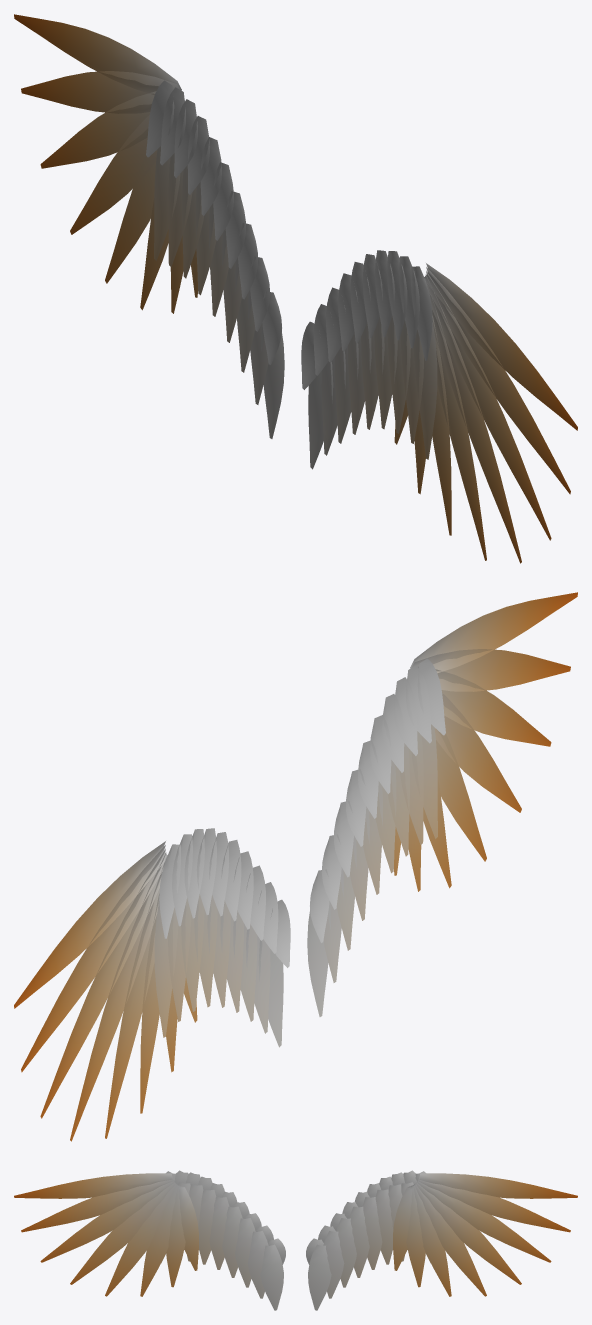
File: SM_AngelWings.fbx
3 views of the same model, one above another, from view 1: azimuth 30°, elevation 25°; view 2: azimuth 150°, elevation 25°; view 3: azimuth 270°, elevation 25° (orthographic). The views are drawn at different scales.
Visible parts, largest first — view 1: SM_AngelWings; view 2: SM_AngelWings; view 3: SM_AngelWings.
Boxes of the visible parts, x1,y1,x2,y2 form: SM_AngelWings: (14,14,577,563); SM_AngelWings: (14,592,577,1141); SM_AngelWings: (14,1170,577,1310).
Size of the model in its own units: 3.9 by 55.5 by 202.
